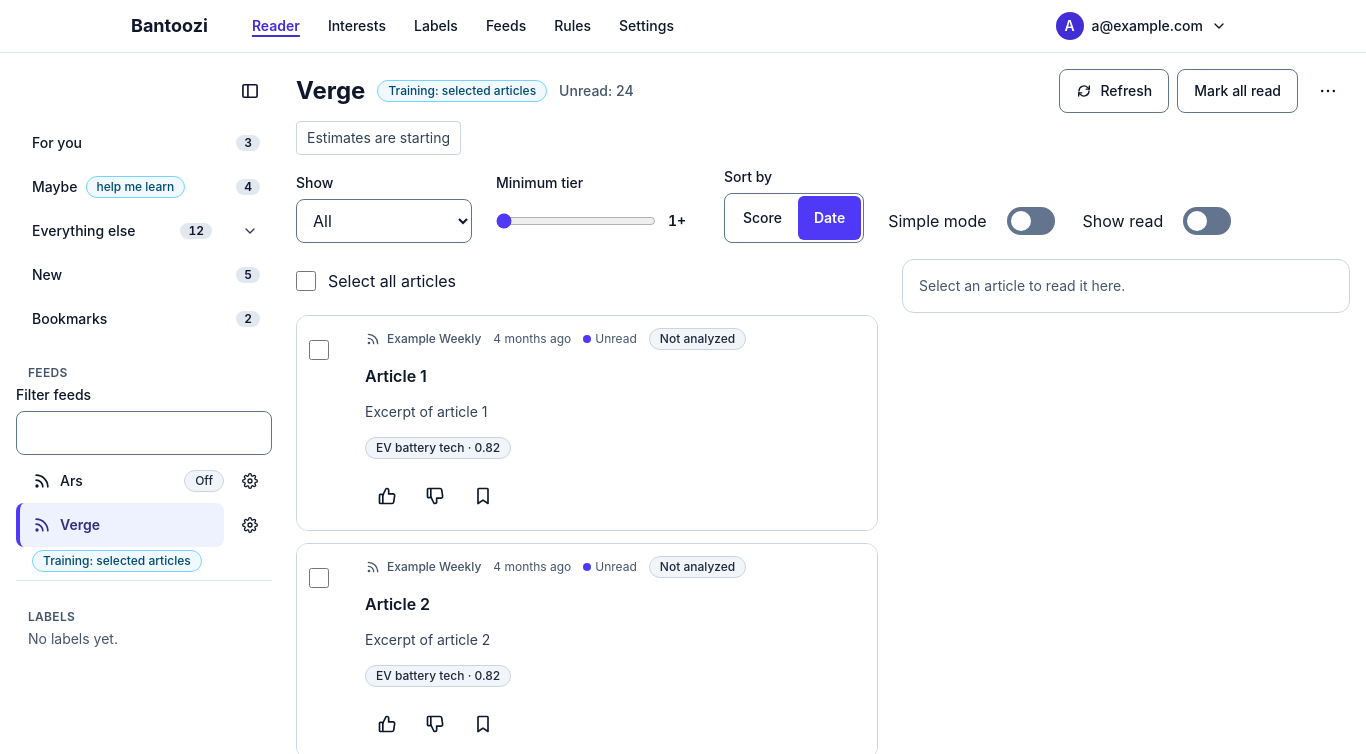
select all › selects every loaded row from none or some, and deselects all when all are selected
Expected: the element "Article 1" is shown, x1=296 y1=315 x2=878 y2=531
Click the checkbox labelled "Select all articles".
click(306, 281)  # box x1=296 y1=271 x2=316 y2=291
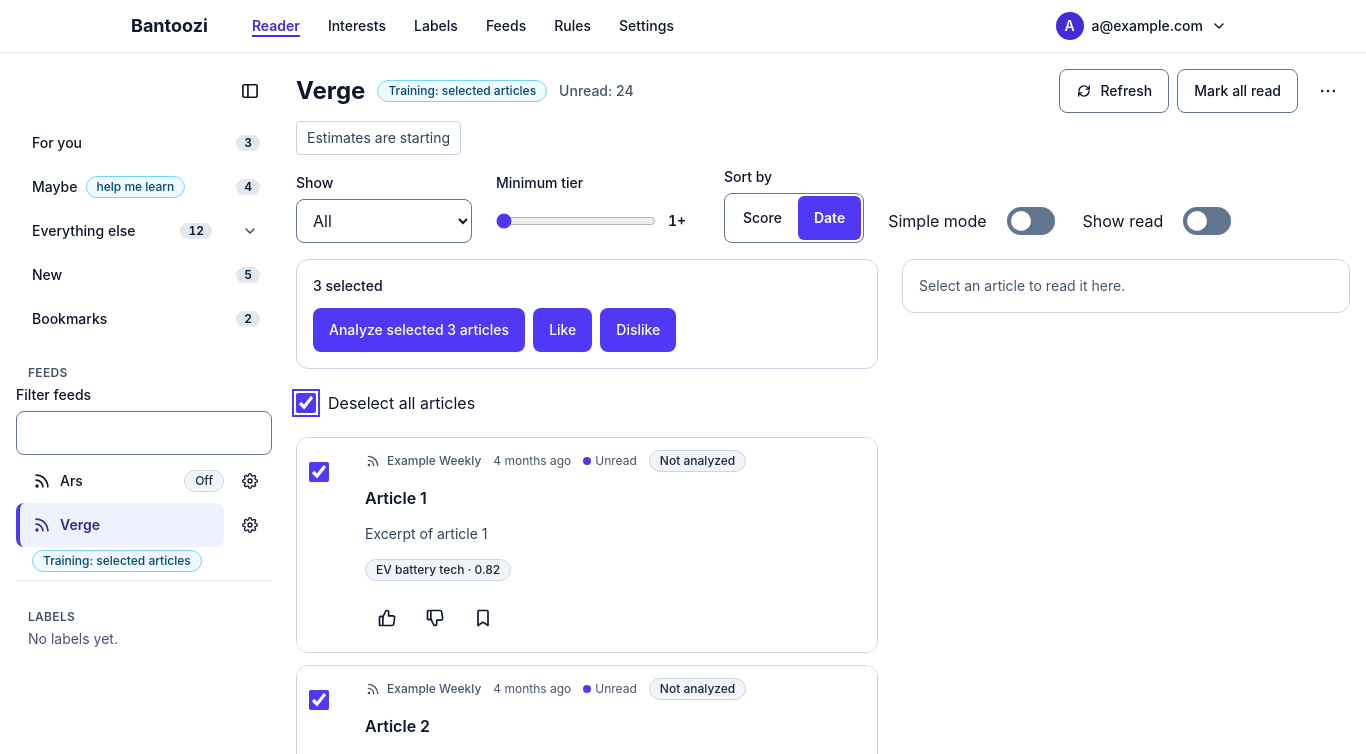
Expected: the checkbox labelled "Deselect all articles" is checked
Click the checkbox labelled "Deselect all articles".
click(306, 403)  # box x1=296 y1=393 x2=316 y2=413
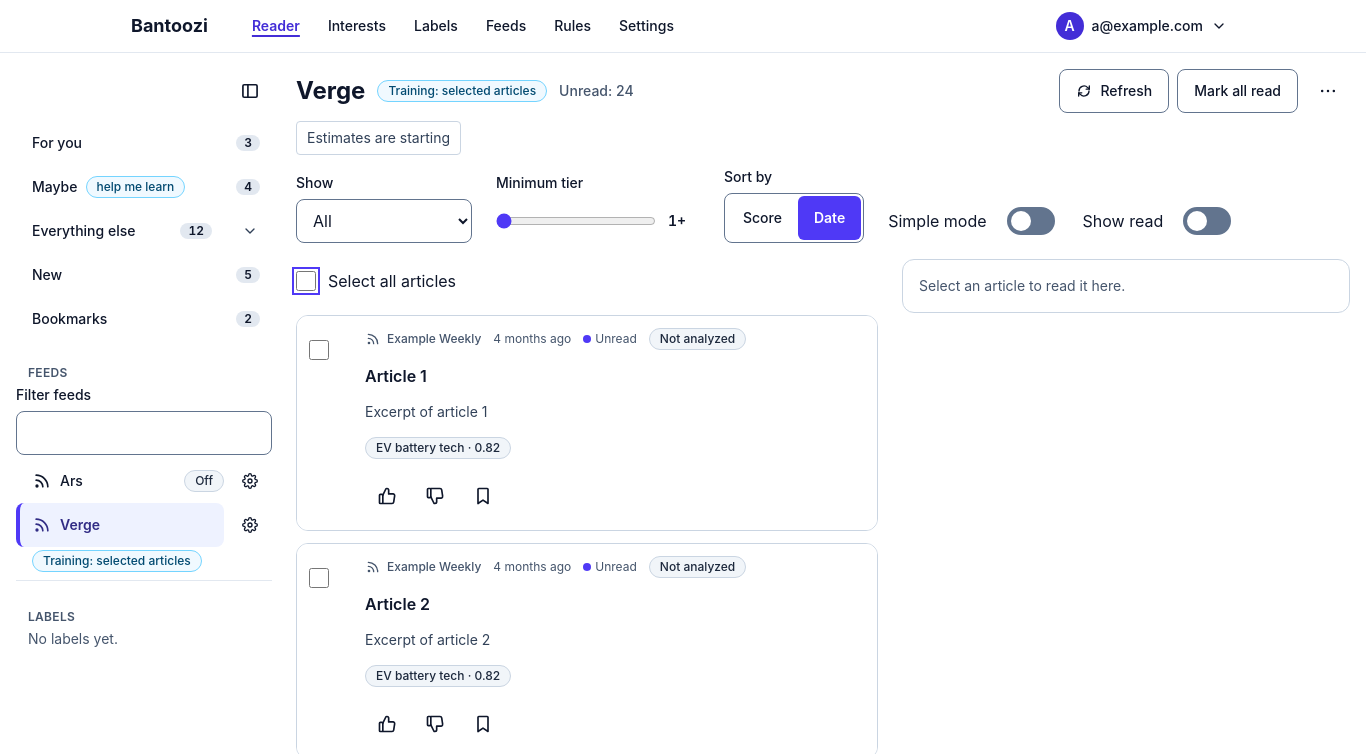
Click the 2nd checkbox.
click(319, 350)  # box x1=309 y1=340 x2=329 y2=360
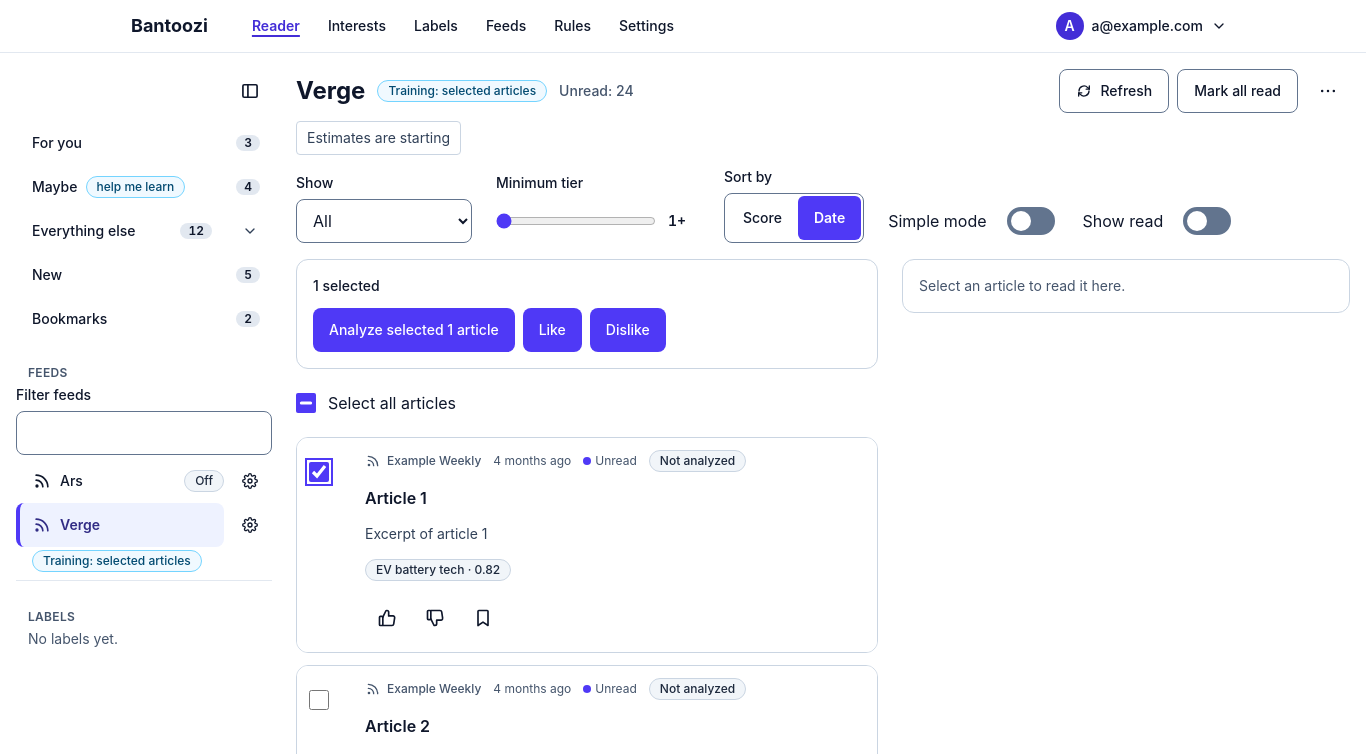
Click the checkbox labelled "Select all articles".
click(306, 403)  # box x1=296 y1=393 x2=316 y2=413
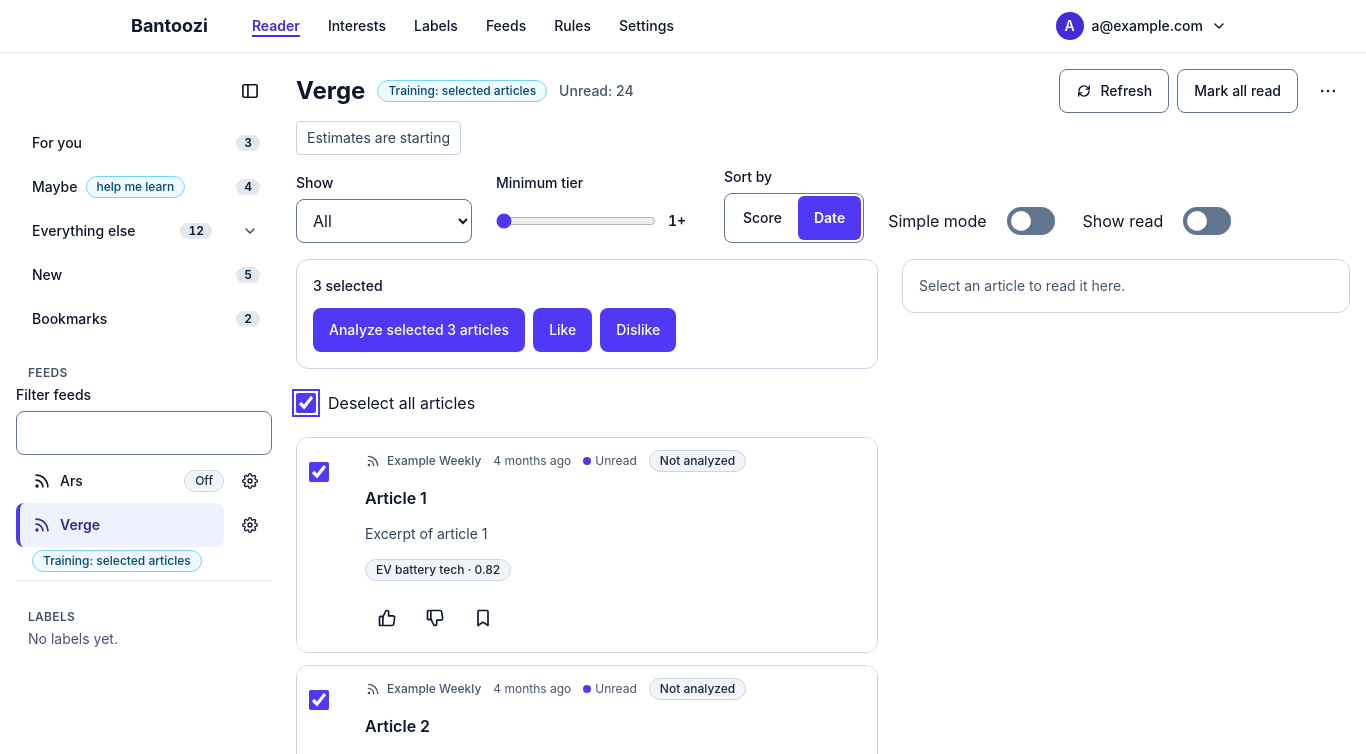
Expected: the text "3 selected" is shown, x1=313 y1=277 x2=383 y2=294
